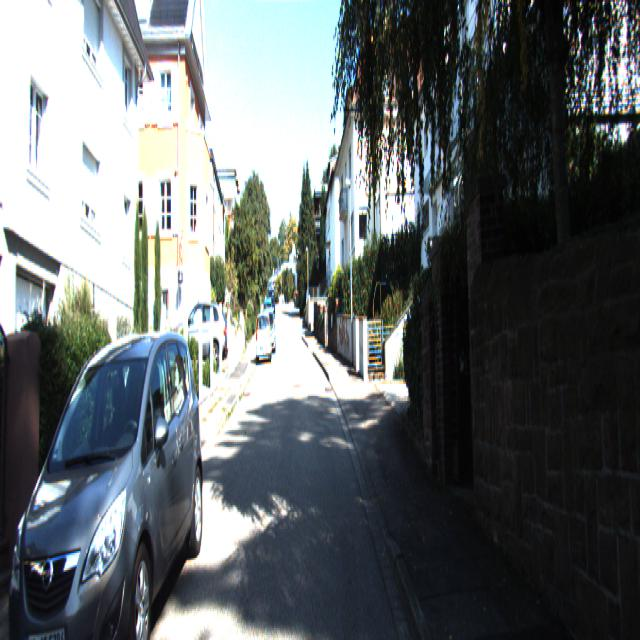Car: (0, 328, 208, 638), (171, 298, 229, 374), (255, 312, 273, 366)
